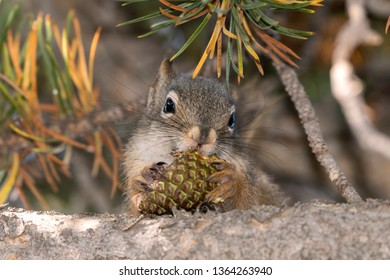Pc: (140, 151, 224, 219)
